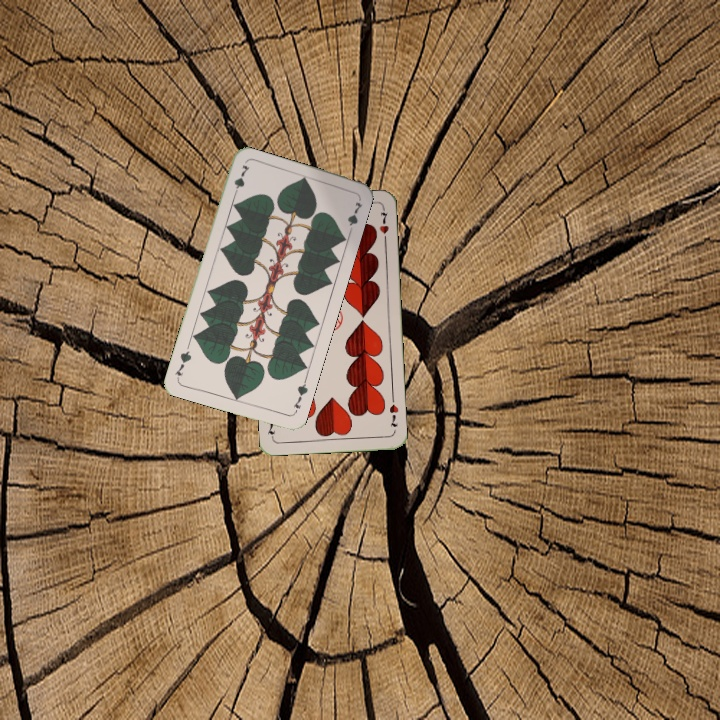G7: (229, 161, 252, 200), (289, 376, 311, 416)
H7: (385, 393, 401, 430)
